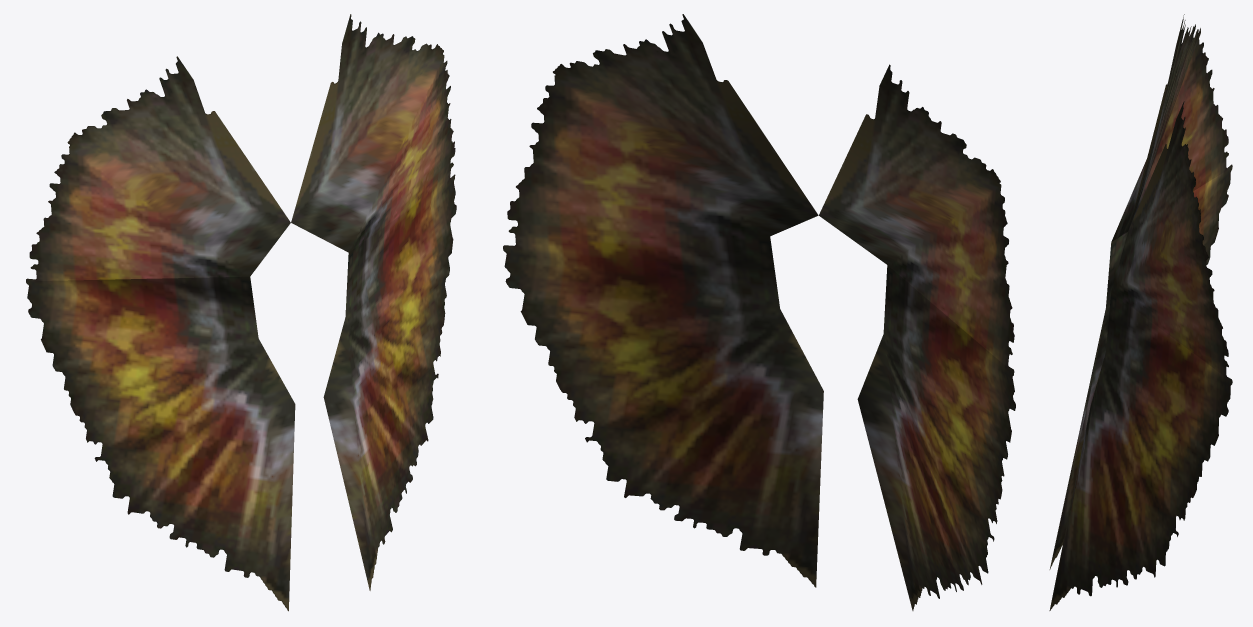
Rendered from dino1_Espina.obj.
The picture shows the model from 3 angles, left to right: view 1: azimuth 30°, elevation 25°; view 2: azimuth 150°, elevation 25°; view 3: azimuth 270°, elevation 25°; orthographic projection. The views are drawn at different scales.
Parts seen in each view (by area): view 1: dino1.007; view 2: dino1.007; view 3: dino1.007.
Boxes of the visible parts, x1=… form: dino1.007: x1=26, y1=14, x2=456, y2=611; dino1.007: x1=503, y1=14, x2=1015, y2=610; dino1.007: x1=1049, y1=14, x2=1232, y2=610.
Size of the model in its own units: 9.63 by 10.73 by 3.44.
1 material, 1 textured.
